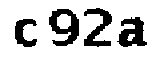2: (83, 4, 114, 51)
9: (47, 5, 82, 49)
a: (116, 13, 151, 52)
c: (10, 16, 40, 48)
